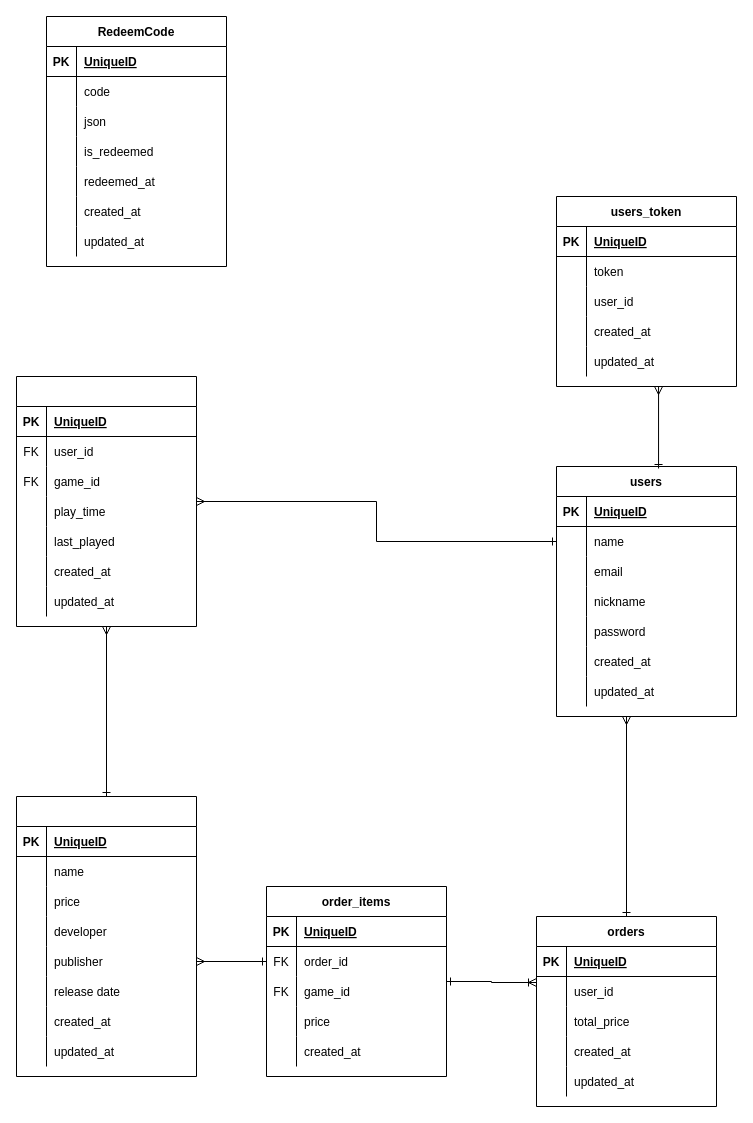
Image size: 753x1123. Some labels were removed from this diagram. The box of each missing label's shape, as (x1, y1, x2, y2) in pixels:
games: (16, 796, 196, 1076)
library: (16, 376, 196, 626)
